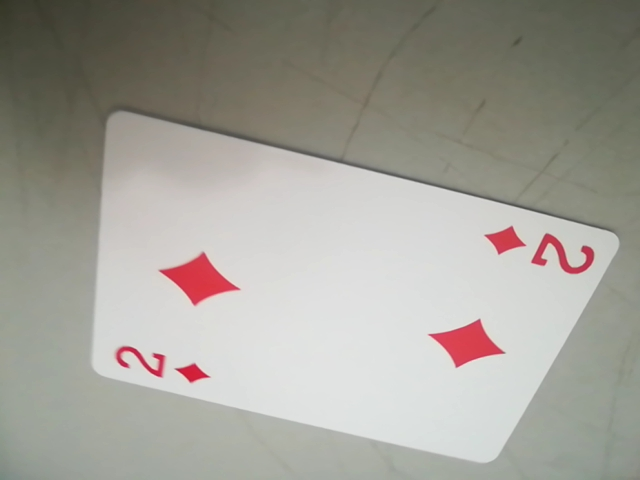fk 2: (480, 223, 604, 280), (108, 337, 222, 390)
